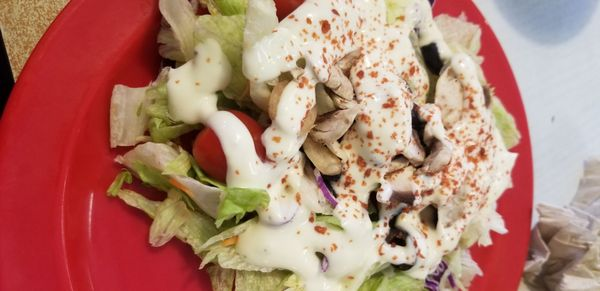soup: (104, 0, 520, 288)
